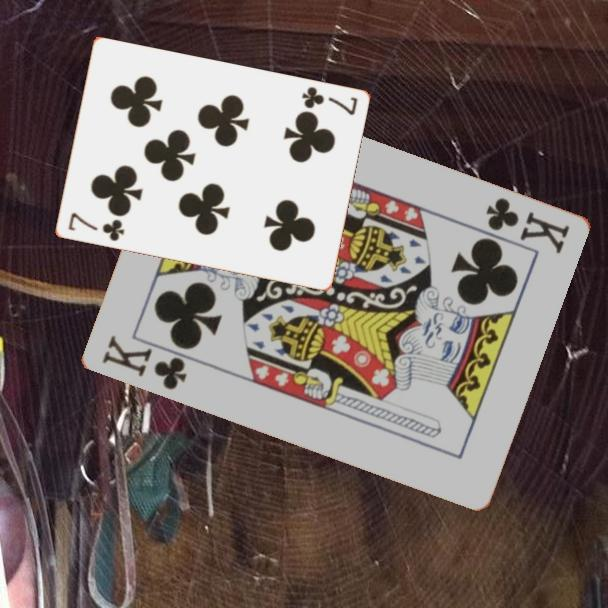c07: (64, 209, 127, 244), (298, 83, 360, 118)
c13: (482, 193, 573, 257), (99, 331, 191, 393)
